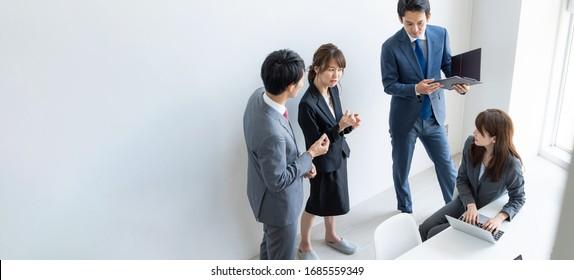No_Goggles: (401, 18, 426, 29), (322, 66, 344, 74)
